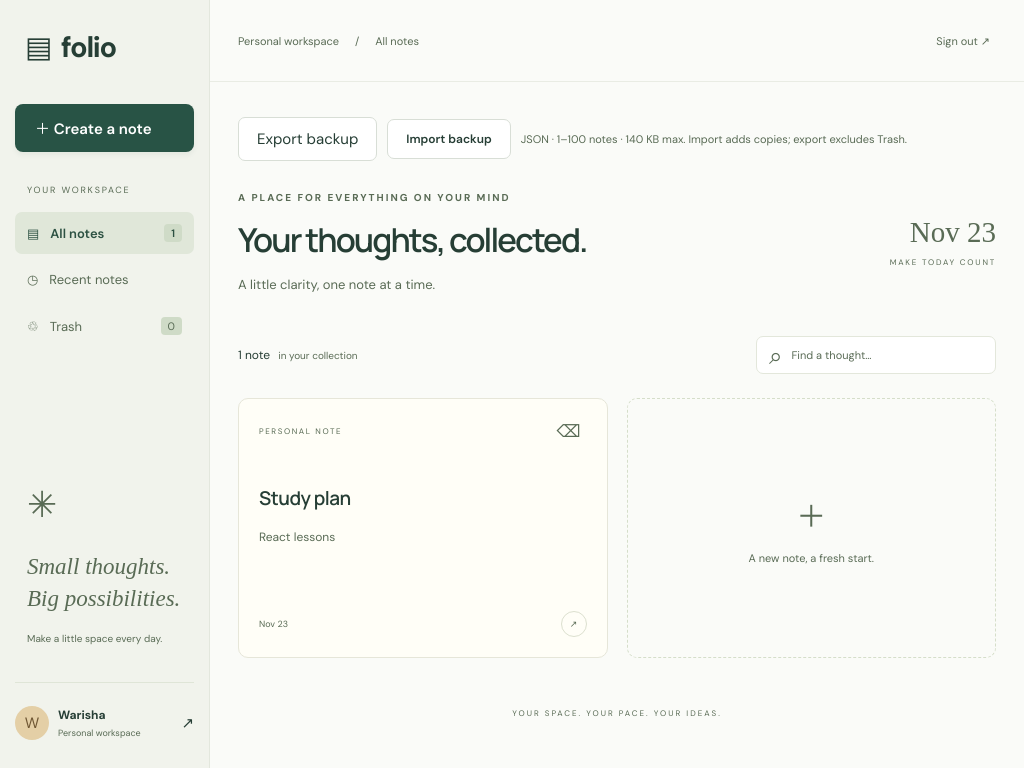
Test: dirty editor cancellation preserves saved title and supports keep editing
Later steps or results of the test are not shown.
Click the button named "Edit Study plan" at (574, 624), box [560, 611, 586, 637]
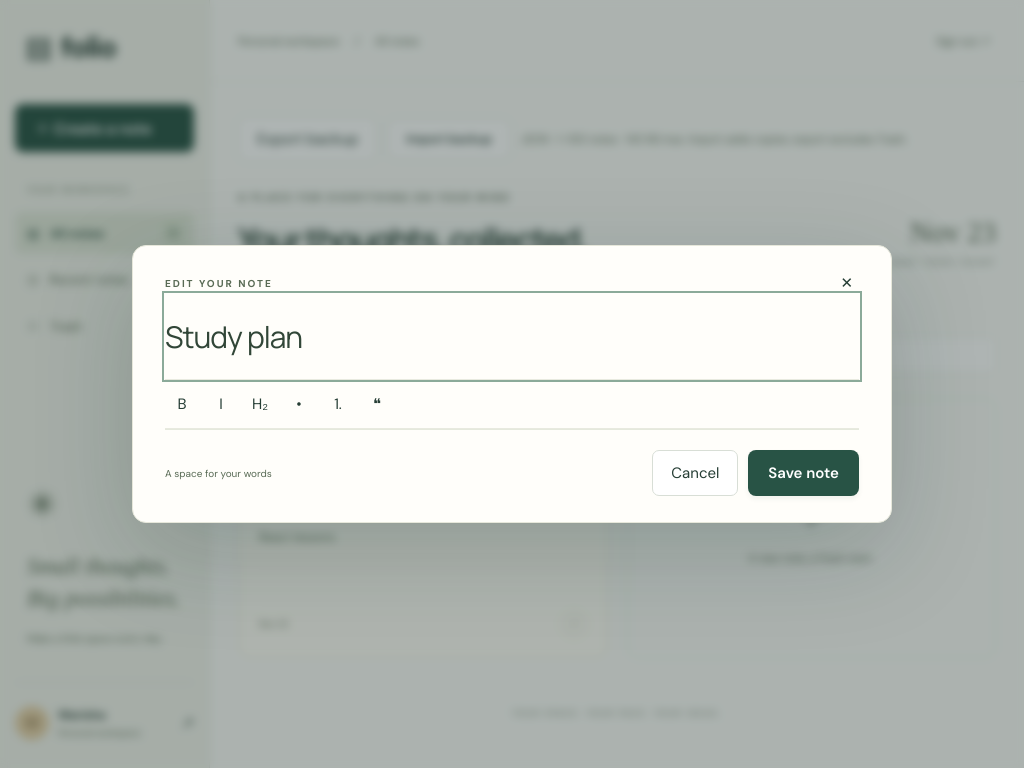
Replace the text in the field named "Note title" with "Unsaved title" at (512, 336), box [165, 294, 859, 379]
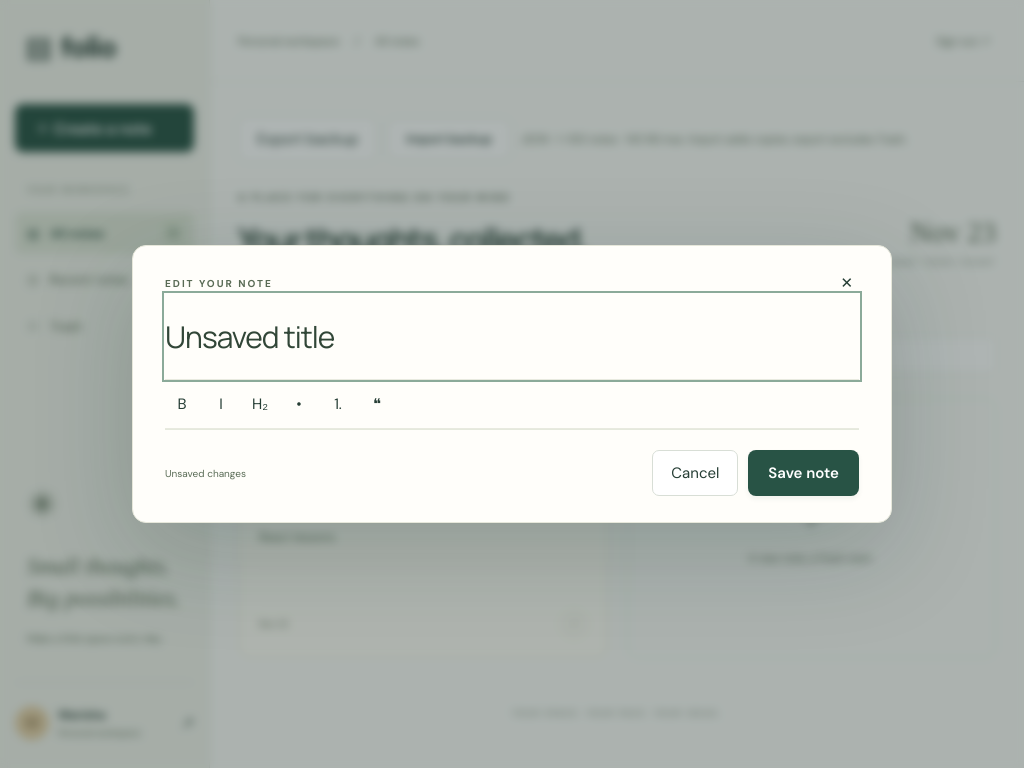
Click the button "Cancel" at (695, 473), box [652, 450, 738, 496]
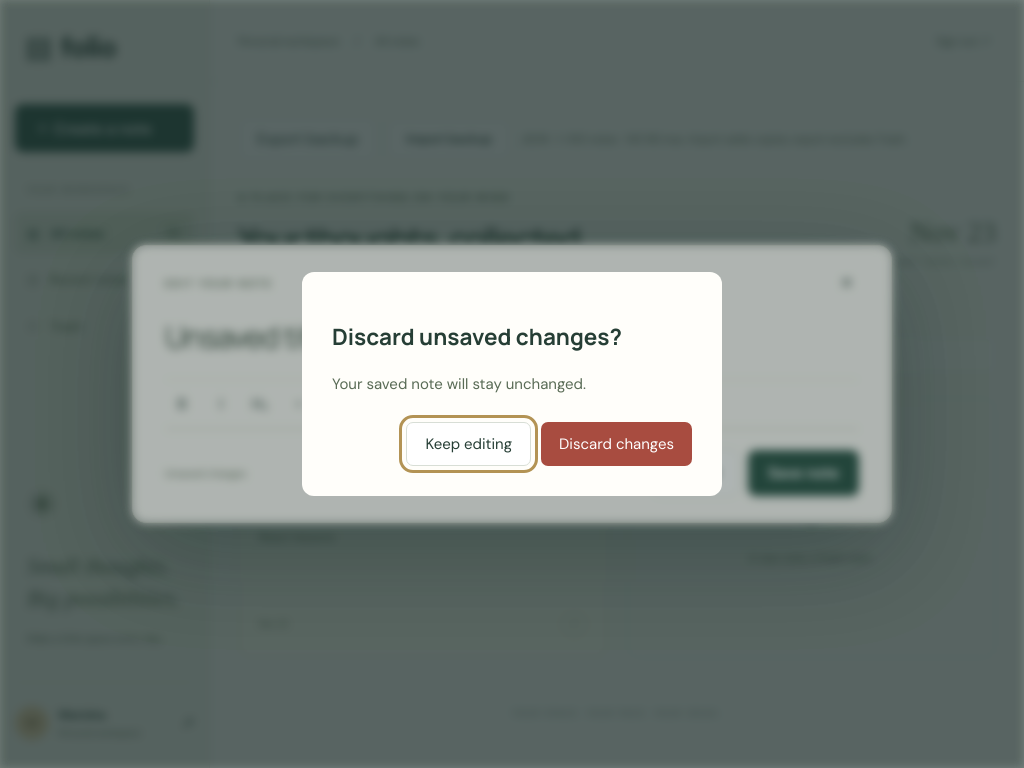
Check: the dialog that starts with "Discard unsaved changes?" is shown, box [332, 321, 622, 352]
